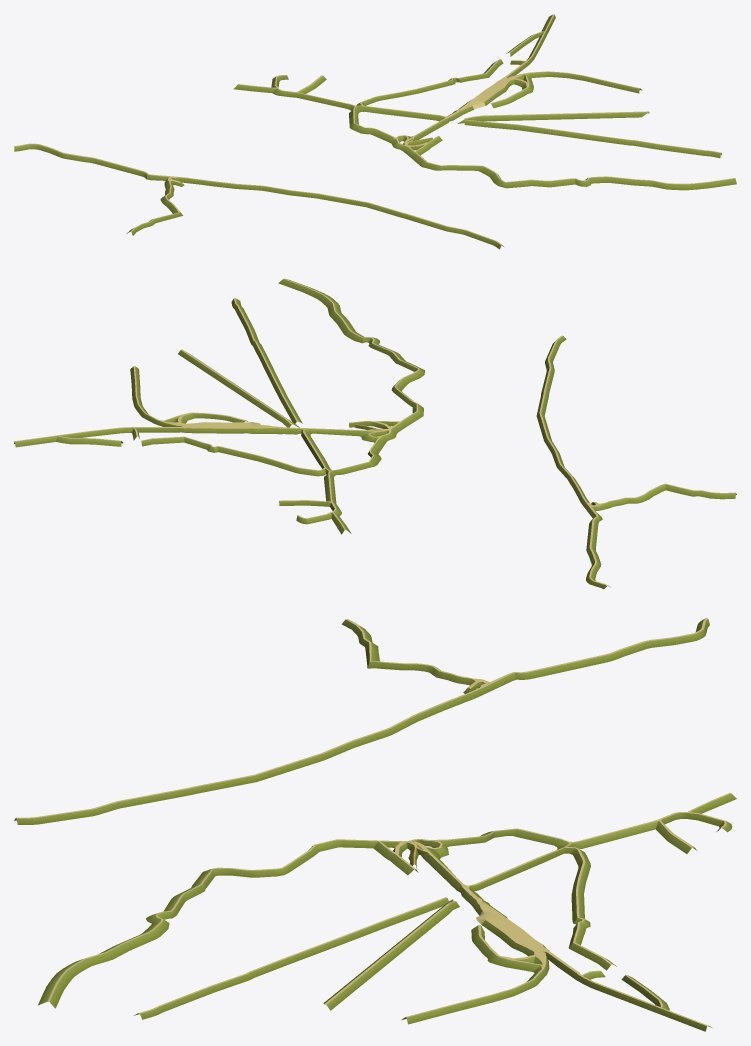
Rendered from SM_Dykes_01.fbx.
The picture shows the model from 3 angles, top to bottom: view 1: azimuth 30°, elevation 25°; view 2: azimuth 150°, elevation 25°; view 3: azimuth 270°, elevation 25°; orthographic projection. The views are drawn at different scales.
Parts seen in each view (by area): view 1: SM_Dyke_01; view 2: SM_Dyke_01; view 3: SM_Dyke_01.
Part boxes in pixels (x1,y1,x2,y2): SM_Dyke_01: (14,14,736,249); SM_Dyke_01: (14,278,736,589); SM_Dyke_01: (14,618,736,1031).
Size of the model in its own units: 7098 by 72.11 by 5284.
